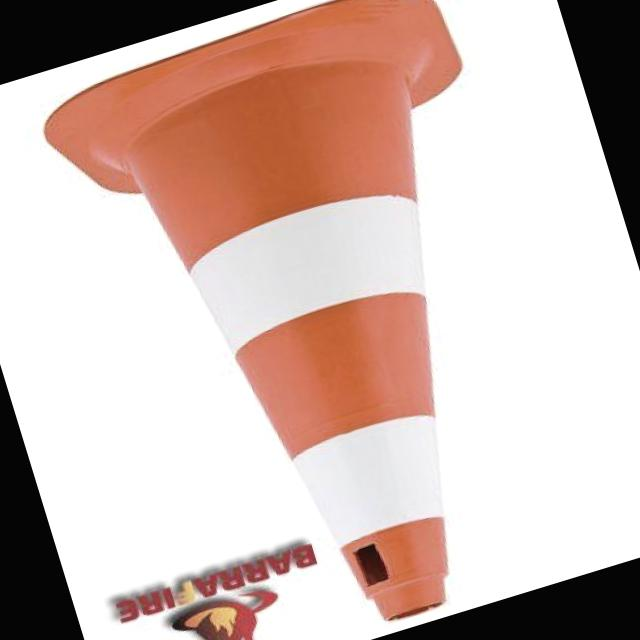cone: (4, 0, 604, 640)
